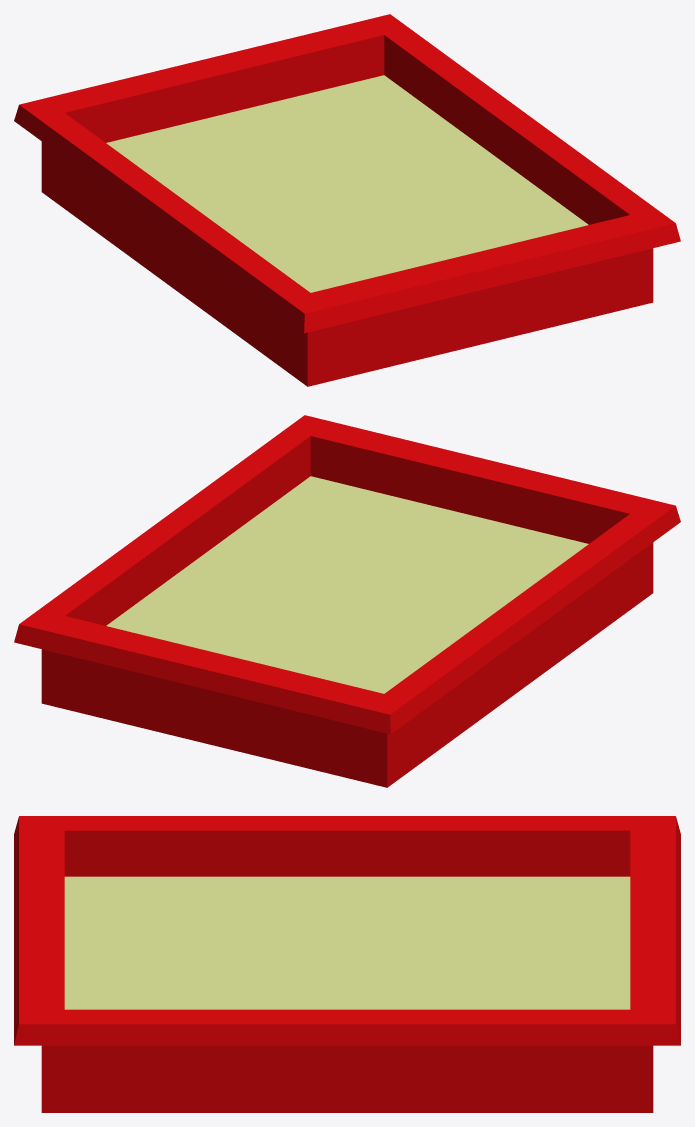
Rendered from Catbox.fbx.
3 views of the same model, one above another, from view 1: azimuth 30°, elevation 25°; view 2: azimuth 150°, elevation 25°; view 3: azimuth 270°, elevation 25° (orthographic). The views are drawn at different scales.
Visible parts, largest first — view 1: Catbox; view 2: Catbox; view 3: Catbox.
Boxes of the visible parts, x1,y1,x2,y2 form: Catbox: (14,14,680,386); Catbox: (14,415,680,787); Catbox: (14,816,680,1112).
Bounding box in the file's own units: 0.4906 × 0.6541 × 0.1037.
